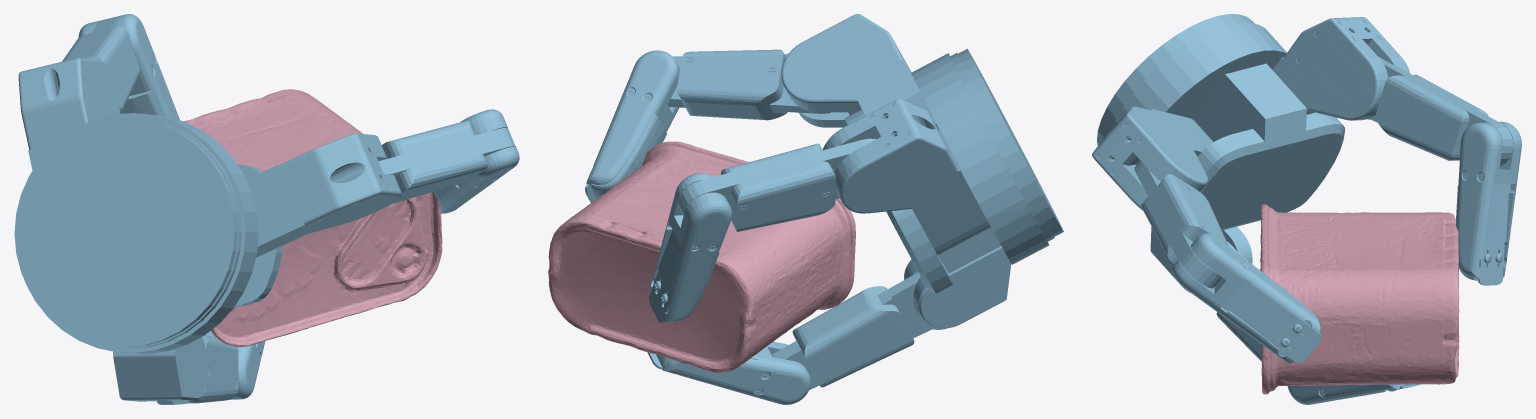
The picture shows the model from 3 angles, left to right: view 1: azimuth 30°, elevation 25°; view 2: azimuth 150°, elevation 25°; view 3: azimuth 270°, elevation 25°; orthographic projection. The views are drawn at different scales.
Parts seen in each view (by area): view 1: world; view 2: world; view 3: world.
Boxes of the visible parts, bbox=[...] form: world: bbox=[14, 14, 519, 404]; world: bbox=[548, 14, 1063, 404]; world: bbox=[1092, 14, 1521, 404].
Bounding box in the file's own units: 0.2031 × 0.1505 × 0.1805.
